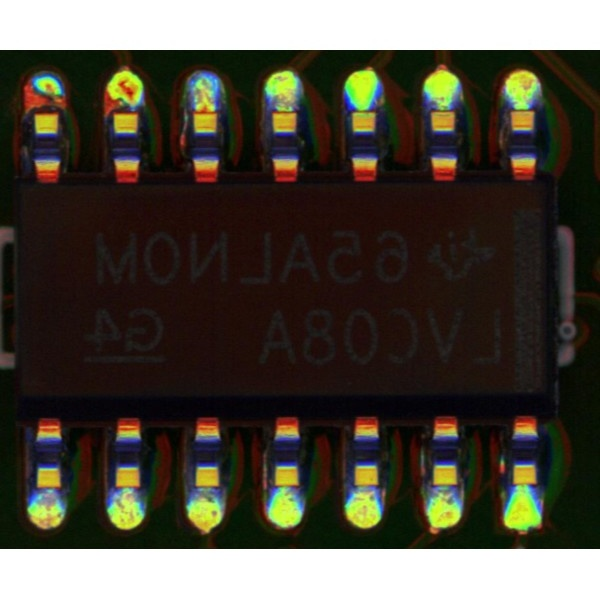Bad_podu: (194, 100, 215, 122)
